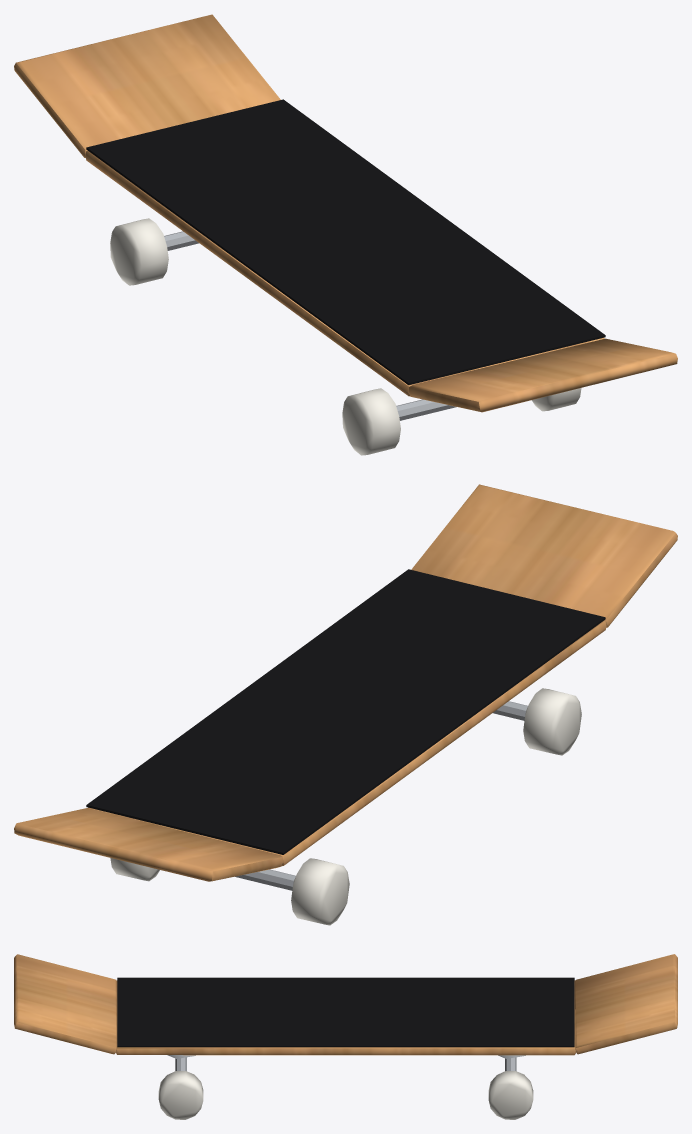
The model's file is skate-leve.glb.
3 renders of one model, top to bottom at view 1: azimuth 30°, elevation 25°; view 2: azimuth 150°, elevation 25°; view 3: azimuth 270°, elevation 25°, orthographic. The views are drawn at different scales.
Visible parts, largest first — view 1: lixa, ponta.001, ponta, deck, roda, roda.002, eixo, roda.001; view 2: lixa, ponta, ponta.001, deck, roda, roda.002, eixo.001, roda.003; view 3: lixa, ponta.001, ponta, deck, roda.001, roda.003.
Boxes of the visible parts, x1,y1,x2,y2 form: lixa: (86, 99, 605, 385); ponta.001: (14, 14, 280, 157); ponta: (408, 338, 677, 412); deck: (85, 151, 604, 396); roda: (342, 388, 400, 455); roda.002: (110, 218, 168, 285); eixo: (396, 399, 456, 420); roda.001: (532, 388, 581, 411); lixa: (86, 569, 605, 854); ponta: (411, 484, 677, 627); ponta.001: (14, 808, 283, 881); deck: (88, 620, 606, 865); roda: (523, 688, 581, 755); roda.002: (291, 858, 349, 925); eixo.001: (235, 869, 295, 890); roda.003: (110, 858, 159, 881); lixa: (117, 977, 574, 1047); ponta.001: (575, 954, 677, 1054); ponta: (14, 954, 116, 1054); deck: (116, 980, 575, 1055); roda.001: (158, 1071, 203, 1119); roda.003: (488, 1071, 533, 1119).
Bounding box in the file's own units: 0.2124 × 0.1289 × 0.8054.
Materials: 4 (1 with a texture image).
